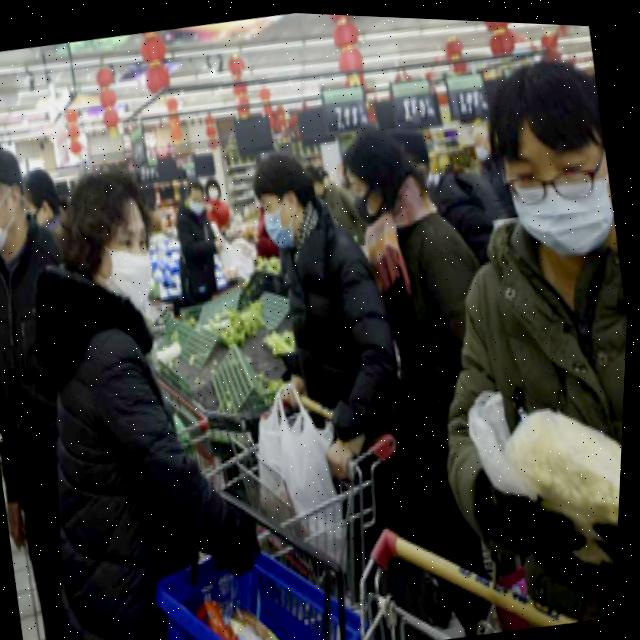Mask: (504, 125, 624, 261), (82, 216, 163, 313), (258, 184, 307, 248), (347, 162, 394, 226), (0, 183, 32, 257), (188, 188, 208, 213), (208, 178, 223, 201)
